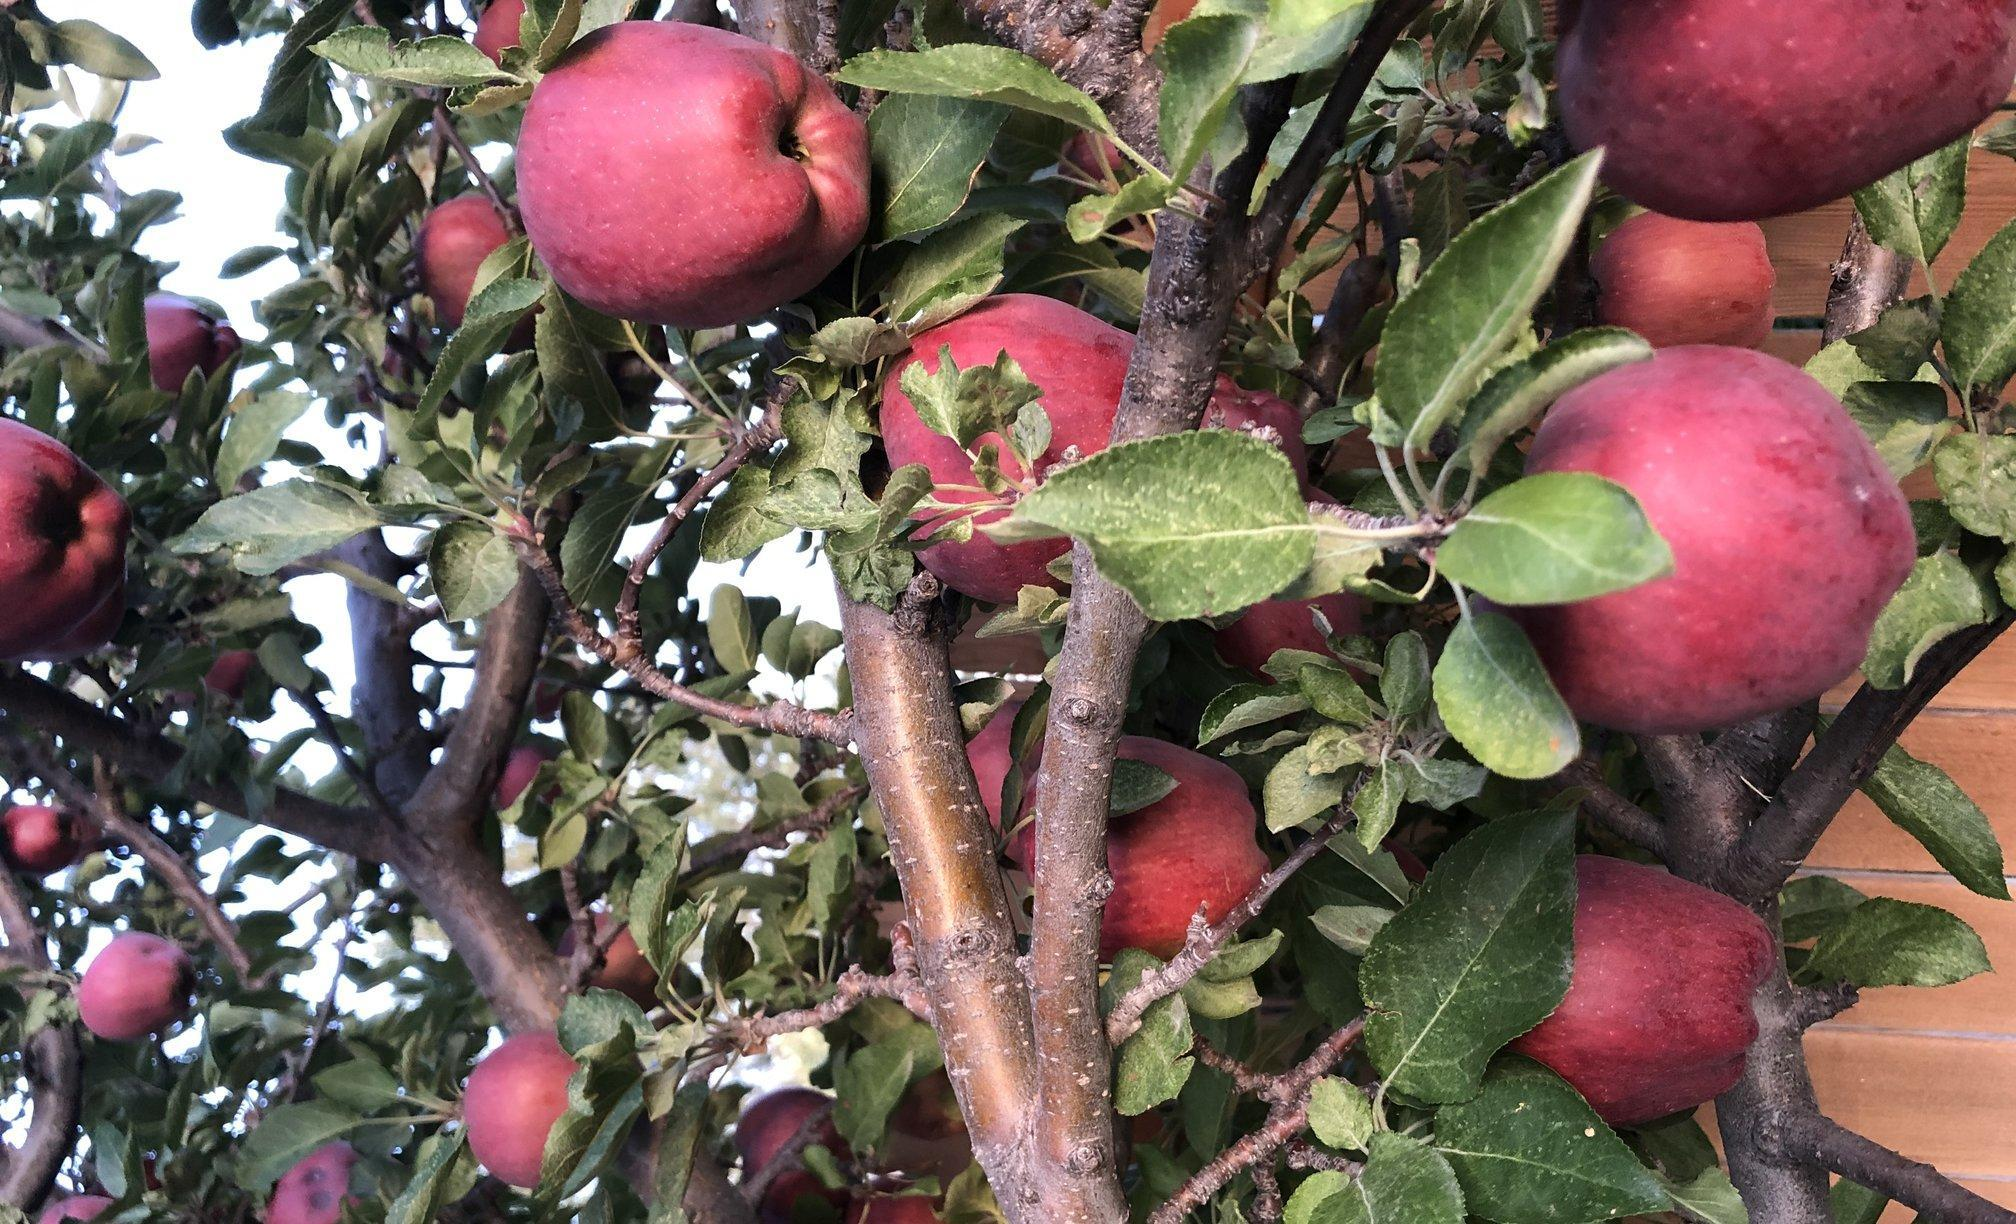apple: (896, 505, 1208, 878), (618, 865, 932, 1138), (274, 1073, 491, 1224), (40, 465, 193, 588)
